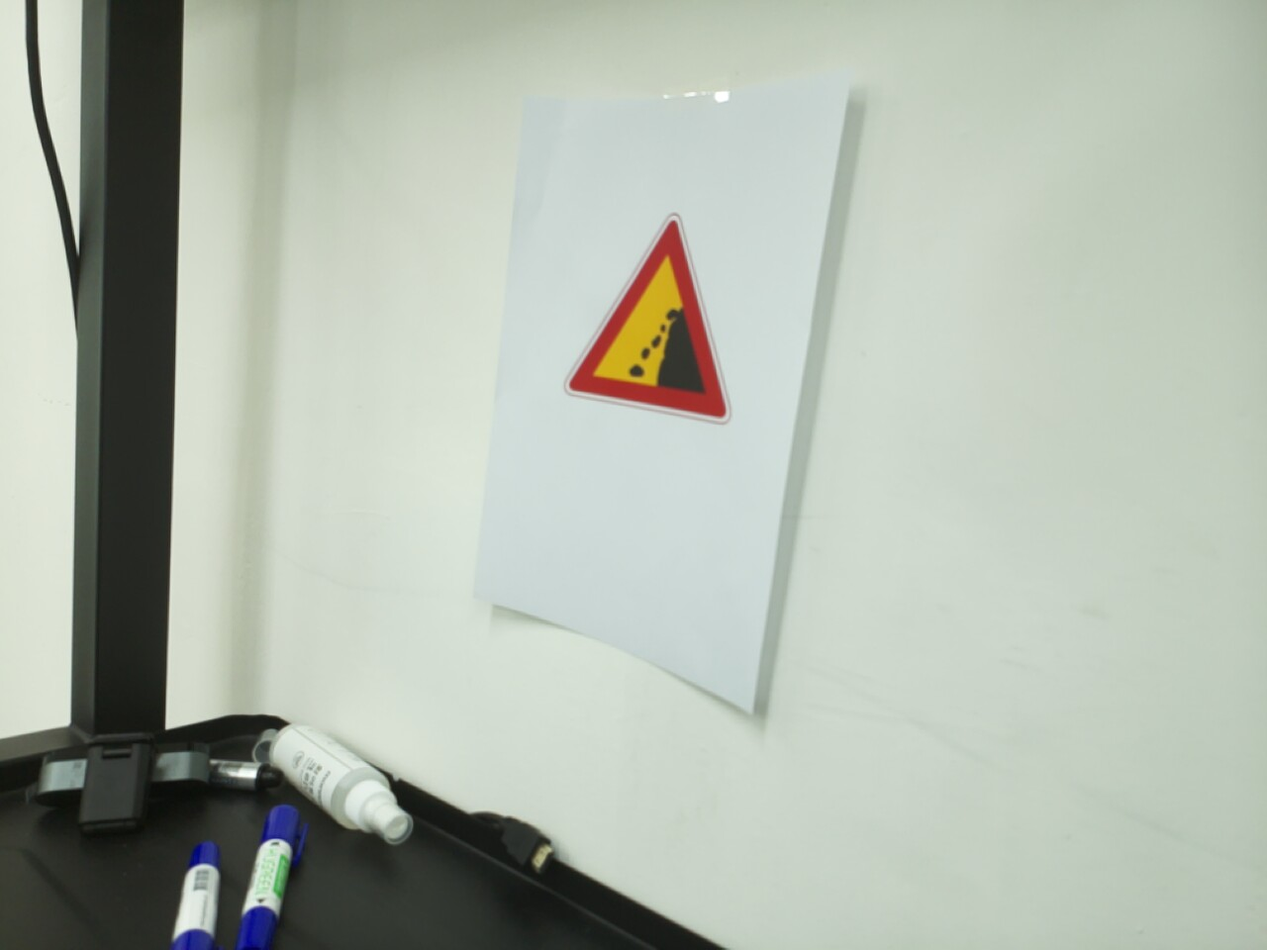falling_rocks: (562, 212, 733, 426)
